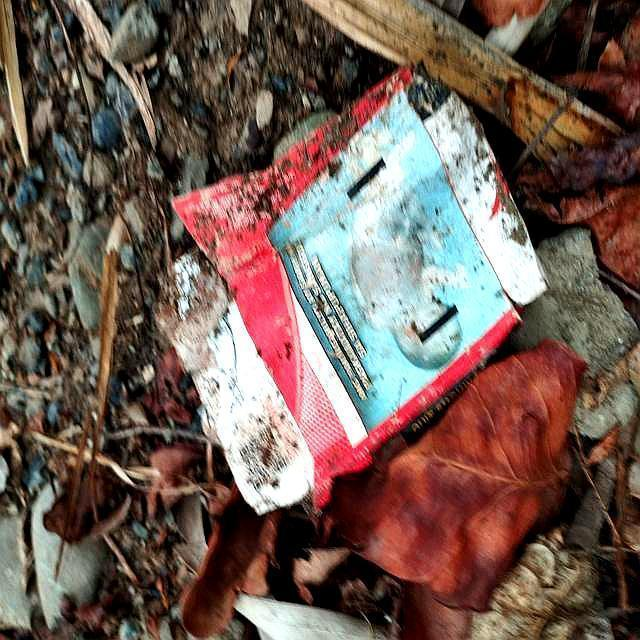Biodegradable: (102, 42, 564, 560)
